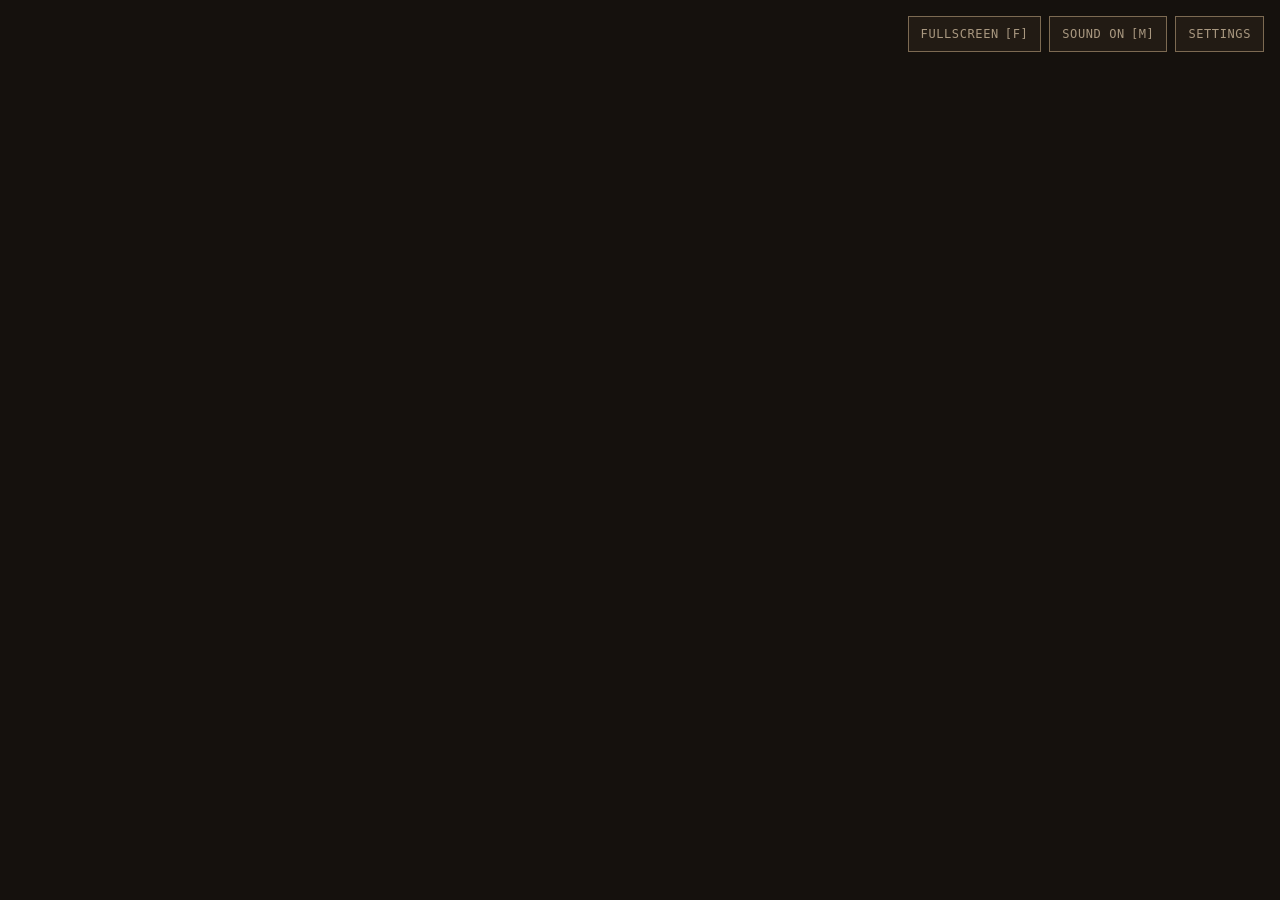
Test: App › tapping attract opens the setup wizard, starting on the name step
Click the element with test id "attract-root" at (640, 450), box [0,0,1279,899]
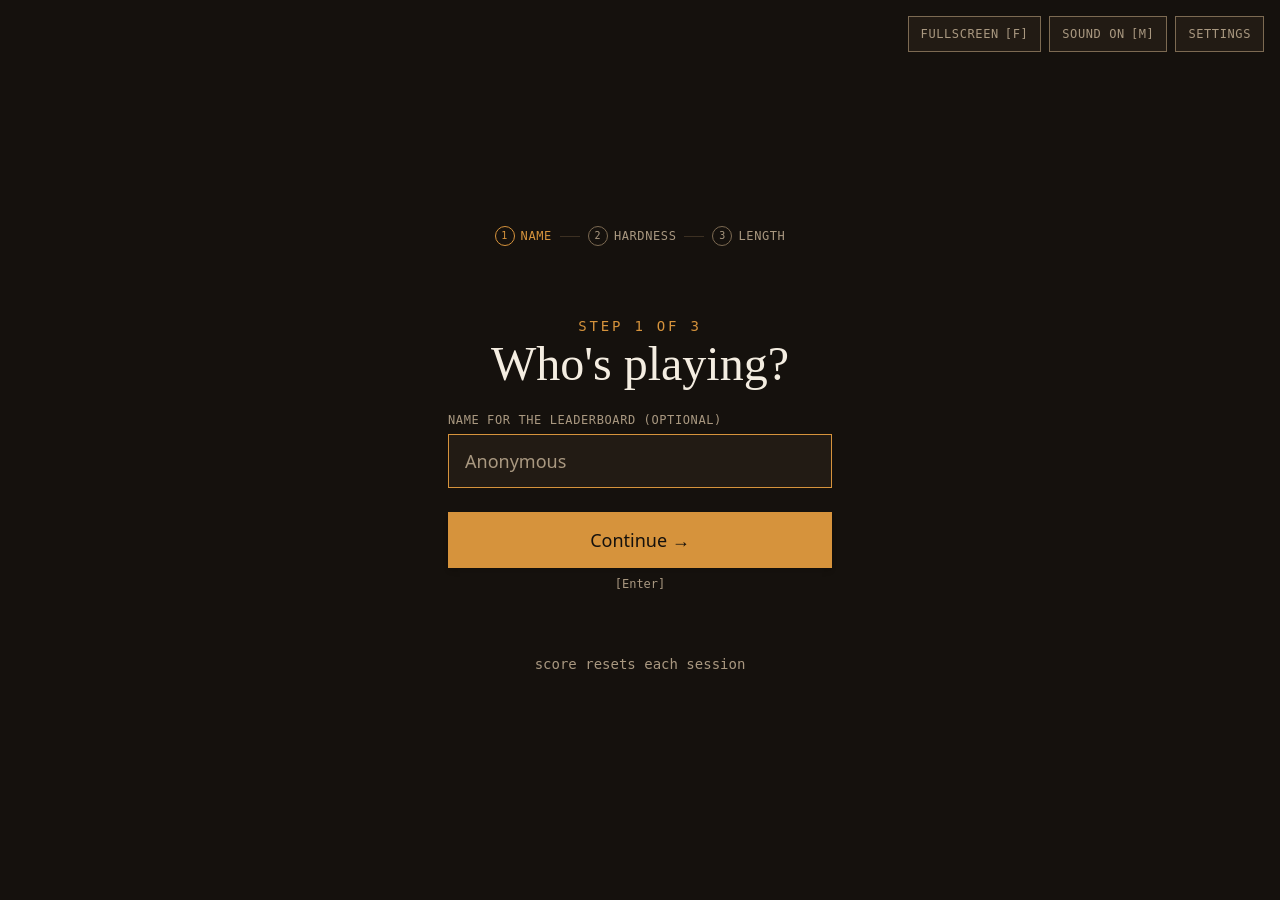
Expected: the element with test id "select-root" is shown
Expected: the heading "Who's playing?" is shown, [491,340,789,388]
